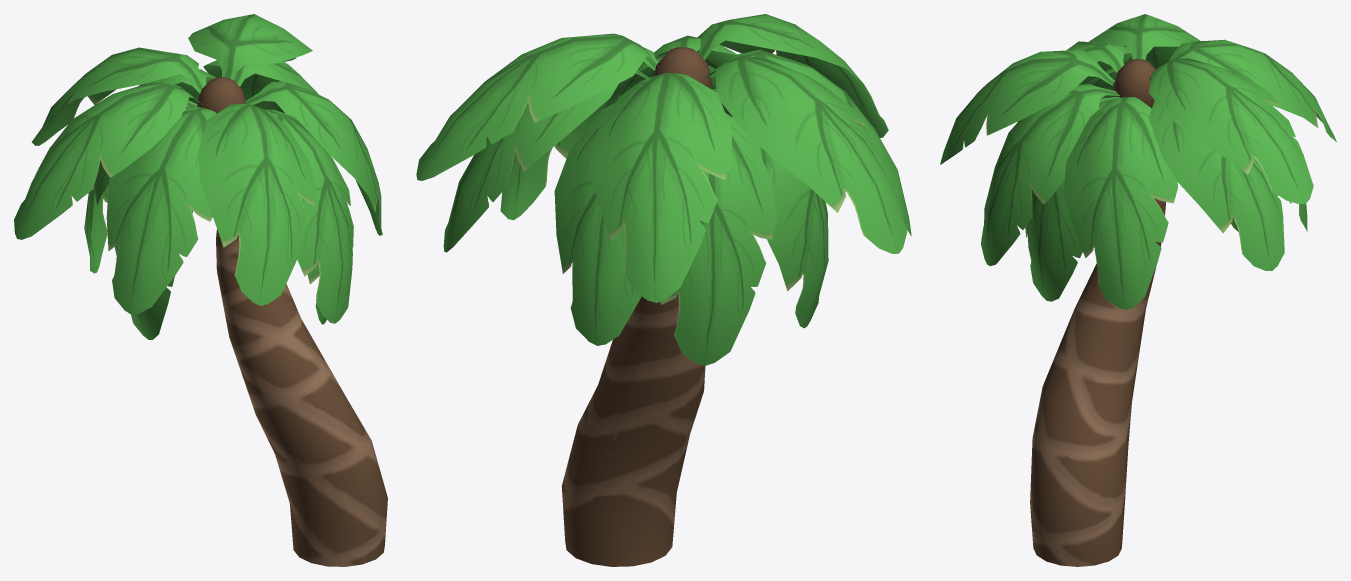
Rendered from Tree.fbx.
3 views of the same model, side by side, from view 1: azimuth 30°, elevation 25°; view 2: azimuth 150°, elevation 25°; view 3: azimuth 270°, elevation 25° (orthographic). The views are drawn at different scales.
Parts seen in each view (by area): view 1: Cylinder; view 2: Cylinder; view 3: Cylinder.
Part boxes in pixels (box(x1,y1,x2,y2)): Cylinder: box(14, 14, 387, 566); Cylinder: box(416, 14, 911, 566); Cylinder: box(940, 14, 1336, 566).
Size of the model in its own units: 1017 by 1364 by 1051.
1 material, 1 textured.
